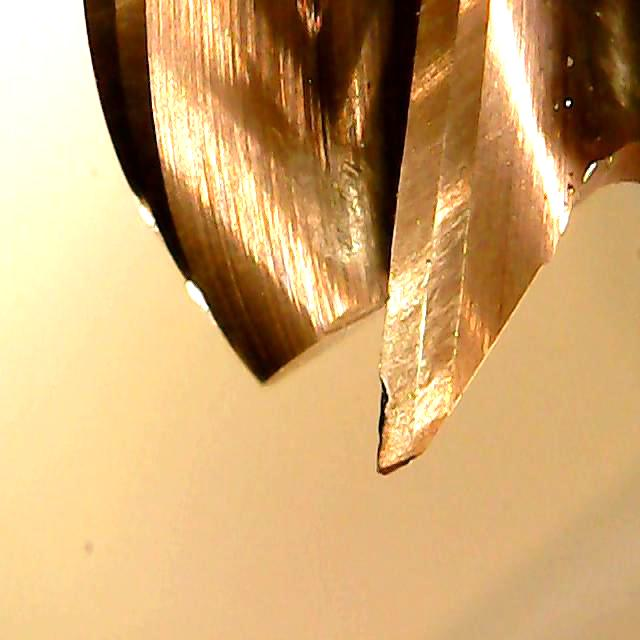Tool-wear-class-1: (359, 204, 479, 475)
